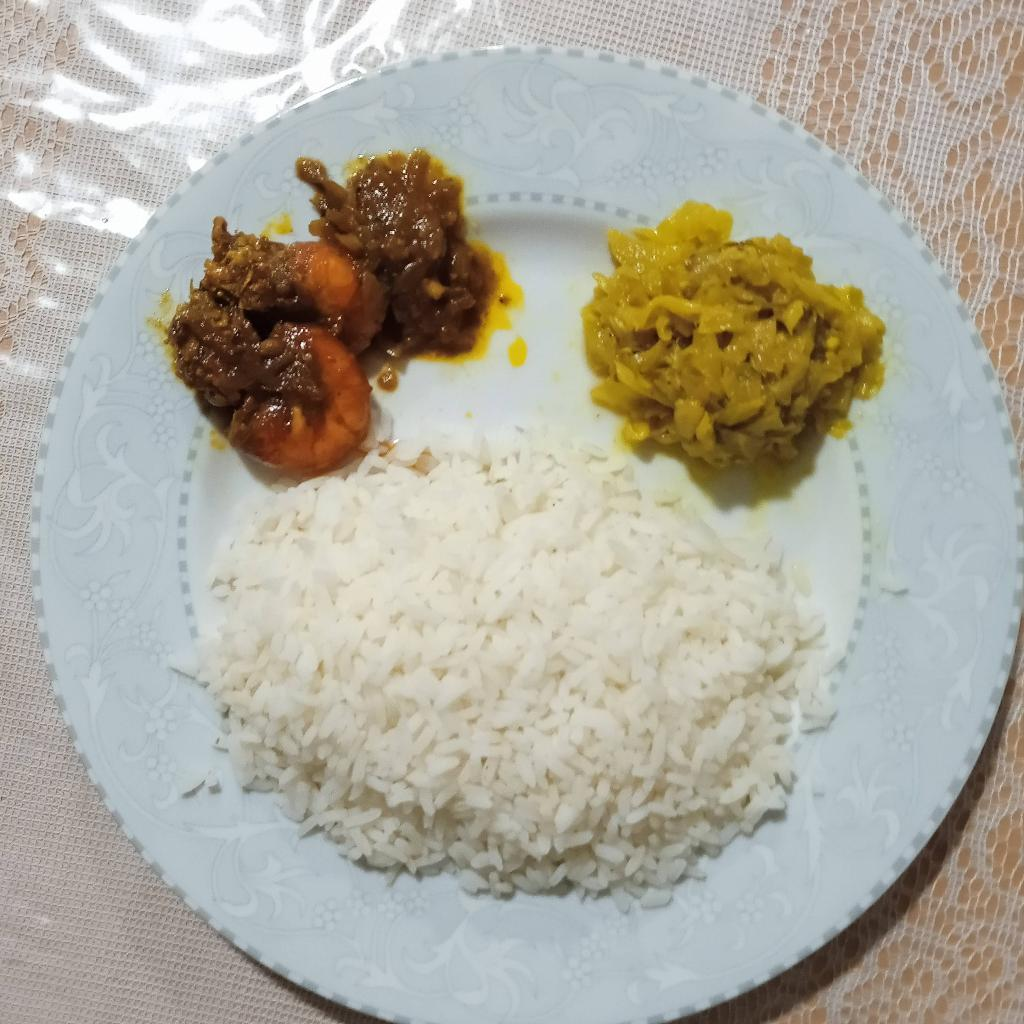fish: (173, 153, 521, 488)
rice: (167, 443, 826, 912)
vaji: (589, 194, 878, 475)
